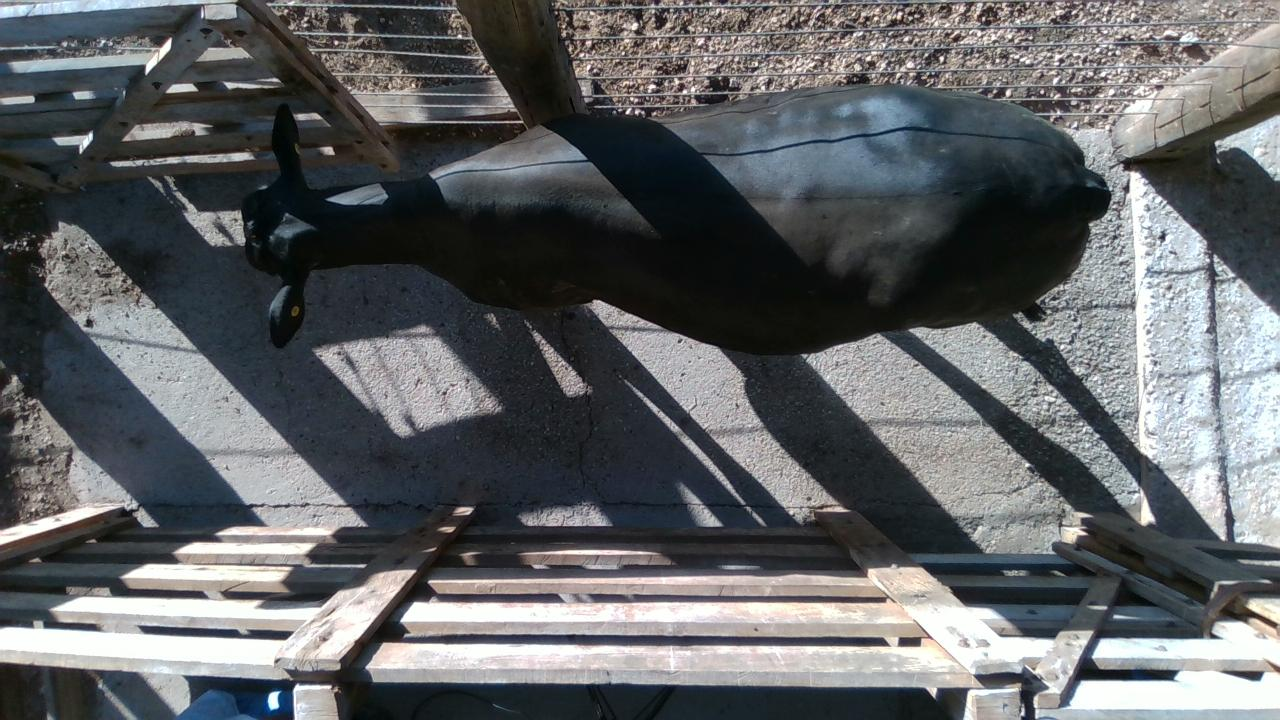cattle: (240, 81, 1111, 356)
